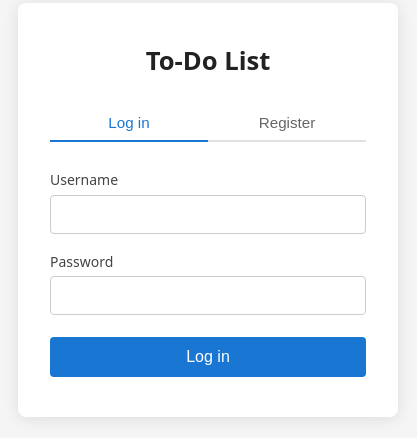
Test: Auth — unauthenticated view › switching to register tab shows register form
Click the tab "Register" at (287, 124), box [208,106,366,142]
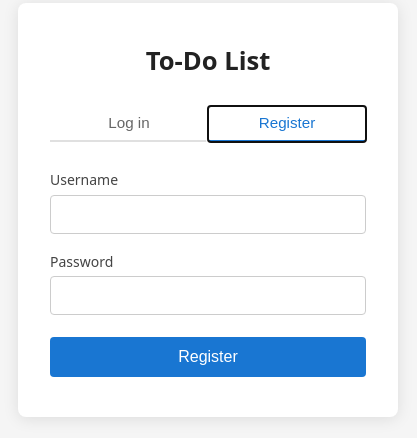
Expected: the button "Register" is shown, [50,337,366,377]
